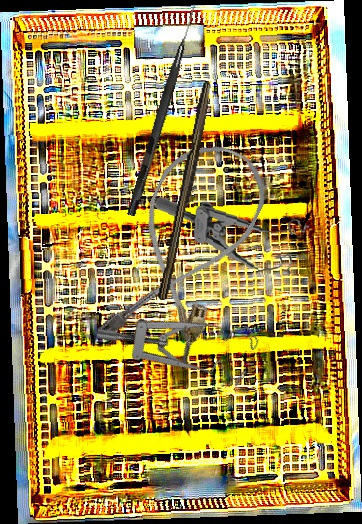Cannula: (89, 126, 280, 376)
Hook Surgical: (127, 3, 198, 218)
Scalpel Handle: (157, 80, 216, 302)
Speculum: (93, 261, 268, 416), (148, 196, 313, 277)
